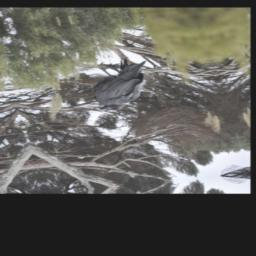Crow: (80, 54, 162, 113)
